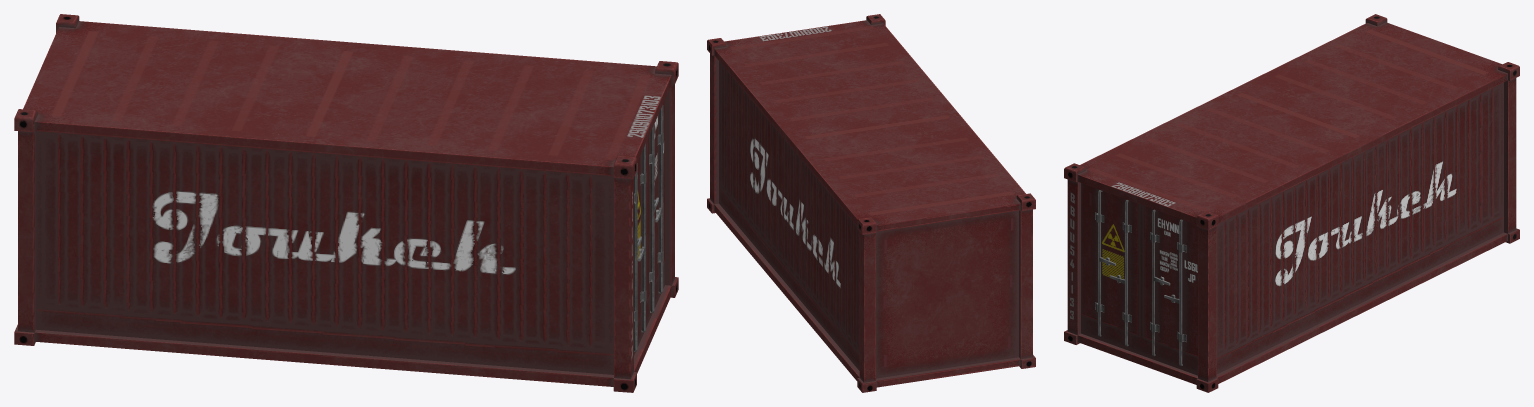
3 renders of one model, left to right at view 1: azimuth 30°, elevation 25°; view 2: azimuth 150°, elevation 25°; view 3: azimuth 270°, elevation 25°, orthographic. The views are drawn at different scales.
Visible parts, largest first — view 1: Container5; view 2: Container5; view 3: Container5.
Part boxes in pixels (x1,y1,x2,y2): Container5: [14, 14, 678, 392]; Container5: [707, 14, 1035, 392]; Container5: [1064, 14, 1519, 392].
Bounding box in the file's own units: 2.03 × 0.7972 × 1.9.
Materials: 1 (1 with a texture image).
